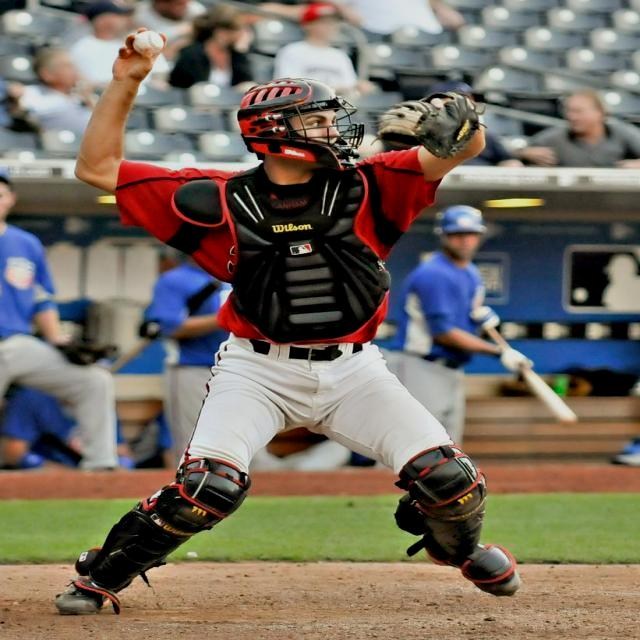baseball bat: (486, 325, 578, 427)
sports ball: (130, 30, 166, 58)
